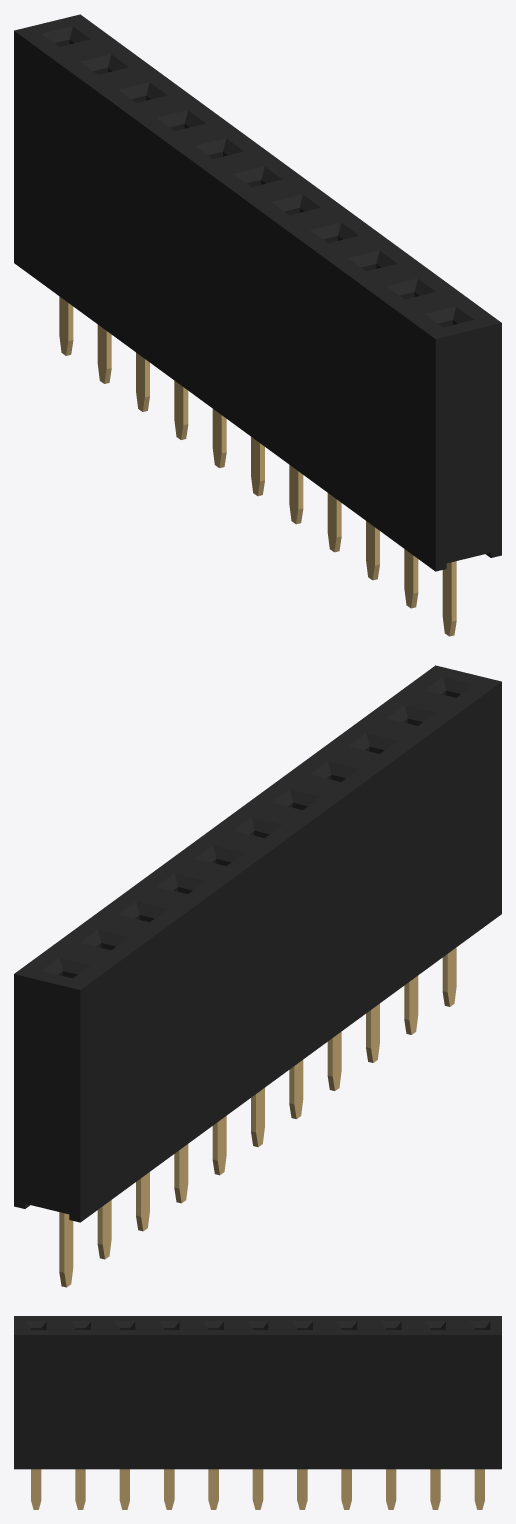
File: kc-pinsocket_1x11_p2.54mm_vertical.glb
The picture shows the model from 3 angles, top to bottom: view 1: azimuth 30°, elevation 25°; view 2: azimuth 150°, elevation 25°; view 3: azimuth 270°, elevation 25°; orthographic projection. The views are drawn at different scales.
Parts seen in each view (by area): view 1: 0_0_0_0, 0.75_0.5_0.25_0.9; view 2: 0_0_0_0, 0.75_0.5_0.25_0.9; view 3: 0_0_0_0, 0.75_0.5_0.25_0.9.
Part boxes in pixels (bbox=[...]): 0_0_0_0: bbox=[14, 14, 501, 571]; 0.75_0.5_0.25_0.9: bbox=[59, 296, 456, 636]; 0_0_0_0: bbox=[14, 665, 501, 1222]; 0.75_0.5_0.25_0.9: bbox=[59, 947, 456, 1287]; 0_0_0_0: bbox=[14, 1316, 501, 1469]; 0.75_0.5_0.25_0.9: bbox=[31, 1469, 484, 1509].
Size of the model in its own units: 0.2541 by 1.16 by 2.79.
